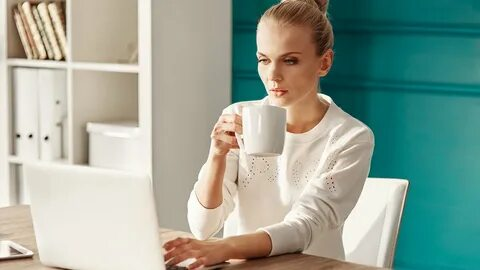awake: (185, 1, 376, 259)
